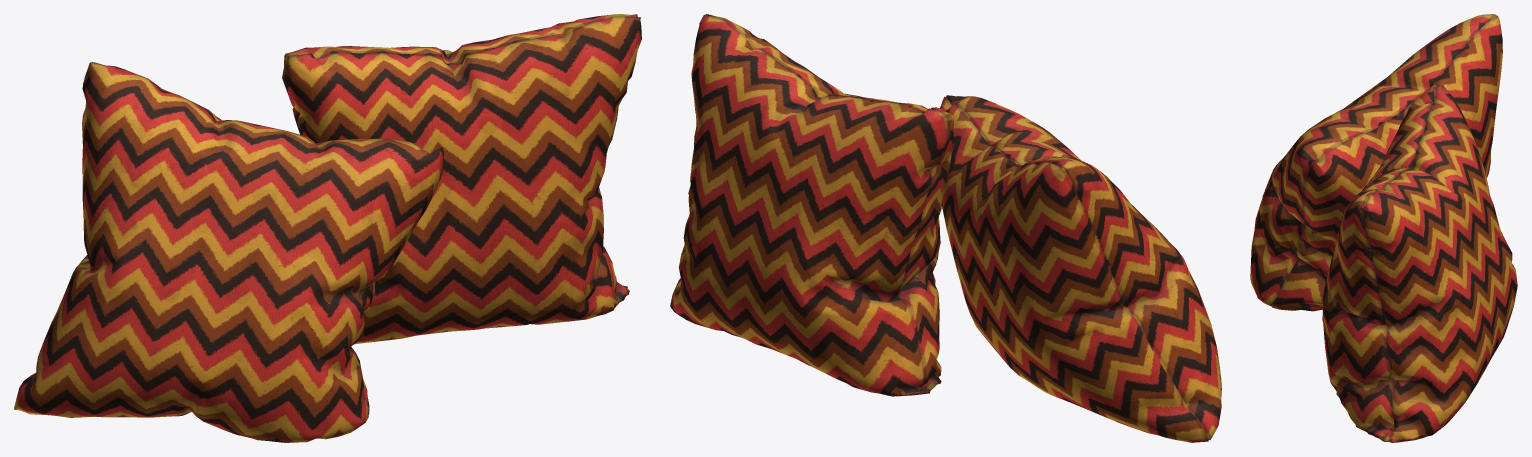
The model's file is throw_pillows_01.glb.
3 views of the same model, side by side, from view 1: azimuth 30°, elevation 25°; view 2: azimuth 150°, elevation 25°; view 3: azimuth 270°, elevation 25° (orthographic). The views are drawn at different scales.
Parts seen in each view (by area): view 1: throw_pillows_01_pillow01, throw_pillows_01_pillow02; view 2: throw_pillows_01_pillow02, throw_pillows_01_pillow01; view 3: throw_pillows_01_pillow02, throw_pillows_01_pillow01.
Part boxes in pixels (x1=…): throw_pillows_01_pillow01: x1=14, y1=62, x2=443, y2=442; throw_pillows_01_pillow02: x1=282, y1=14, x2=641, y2=344; throw_pillows_01_pillow02: x1=670, y1=14, x2=953, y2=396; throw_pillows_01_pillow01: x1=940, y1=95, x2=1221, y2=442; throw_pillows_01_pillow02: x1=1322, y1=84, x2=1517, y2=442; throw_pillows_01_pillow01: x1=1250, y1=14, x2=1502, y2=311.
Bounding box in the file's own units: 0.9402 × 0.4503 × 0.4518.
1 material, 1 textured.
